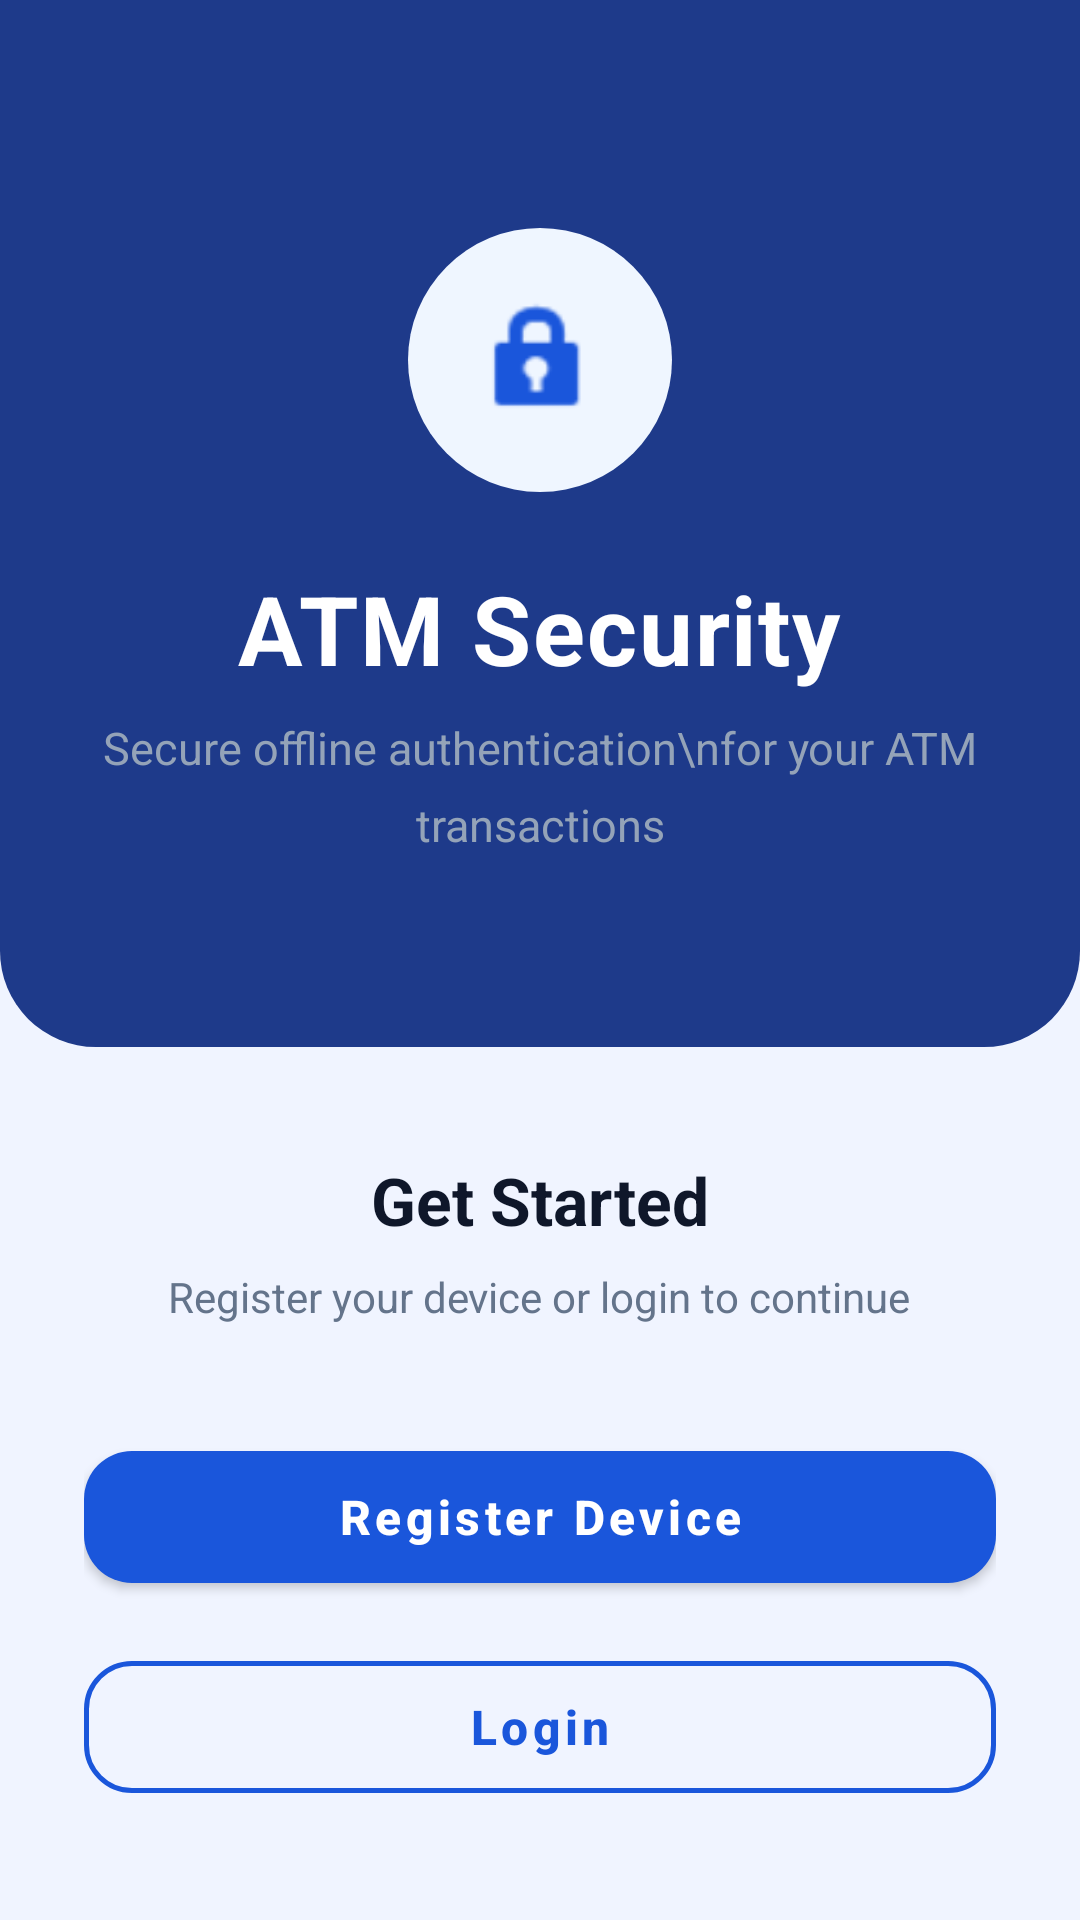

Named icons in this screenshot (1080px x 1920px) and their centers, [x,y]:
lock idle: [537,355]
